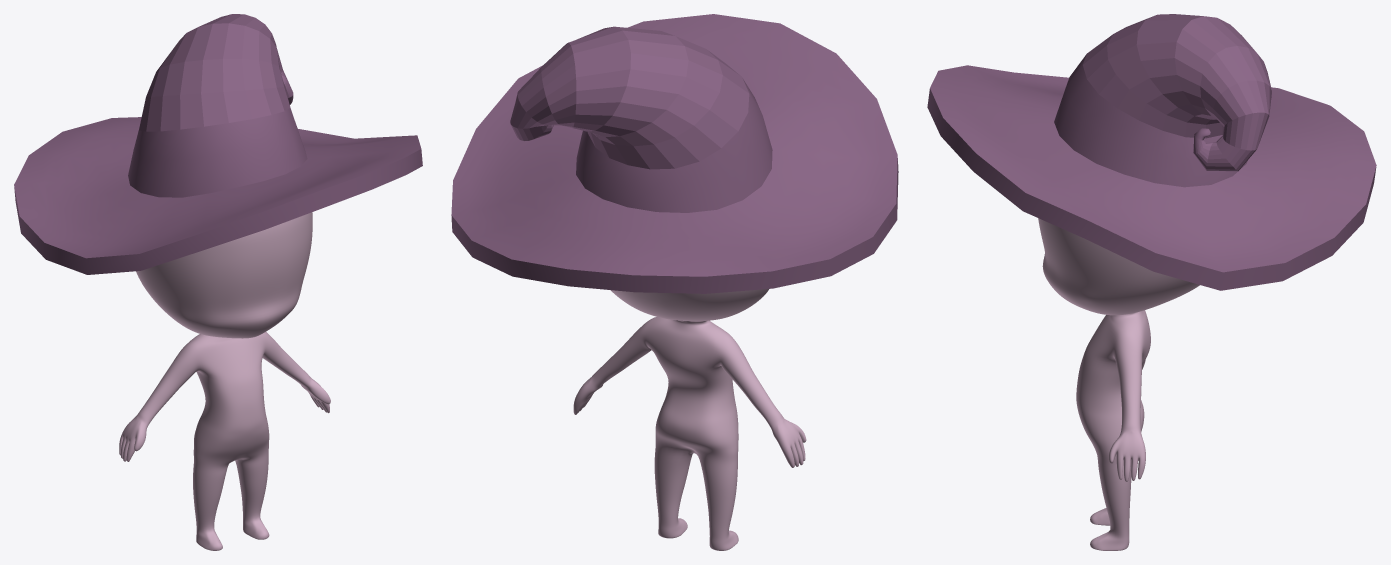
File: Cathy.fbx
3 views of the same model, side by side, from view 1: azimuth 30°, elevation 25°; view 2: azimuth 150°, elevation 25°; view 3: azimuth 270°, elevation 25° (orthographic). The views are drawn at different scales.
Parts seen in each view (by area): view 1: Hat1; view 2: Hat1; view 3: Hat1.
Boxes of the visible parts, left/top/right/bottom form: Hat1: left=14, top=14, right=422, bottom=550; Hat1: left=451, top=14, right=898, bottom=550; Hat1: left=927, top=14, right=1376, bottom=550.
Bounding box in the file's own units: 5.94 × 7.66 × 5.86.
